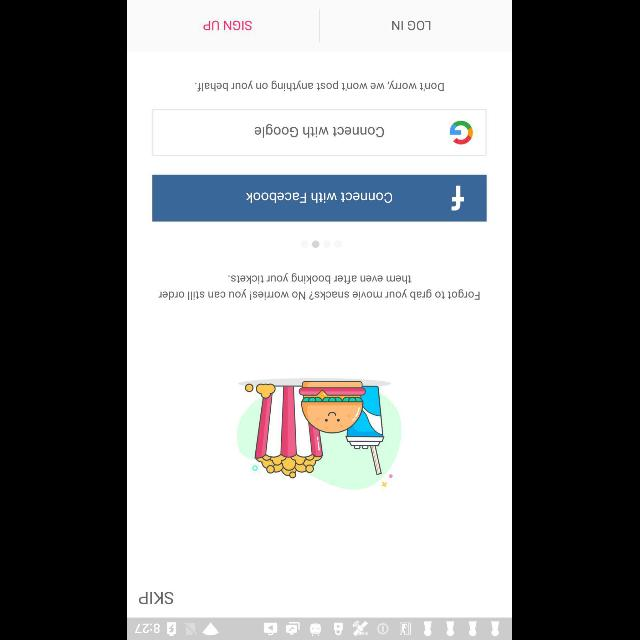image: (238, 378, 402, 490)
pageindicator: (301, 240, 343, 248)
text: (159, 272, 481, 300), (196, 80, 444, 92), (139, 592, 175, 604)
textbutton: (153, 174, 487, 222), (153, 108, 487, 156), (321, 0, 513, 50), (128, 0, 320, 50)
uppertaskbar: (128, 617, 512, 639)
